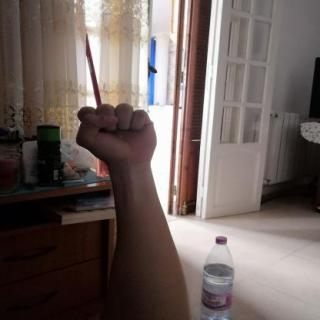SAD: (61, 94, 180, 174)
